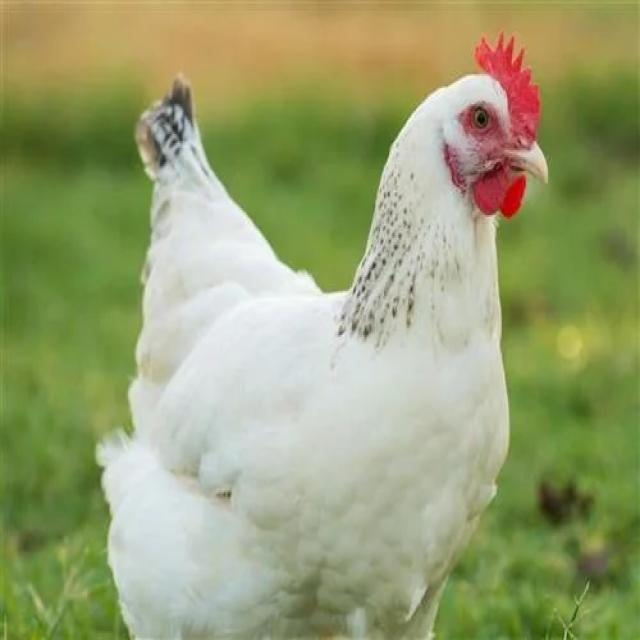Healthy: (86, 27, 558, 588)
